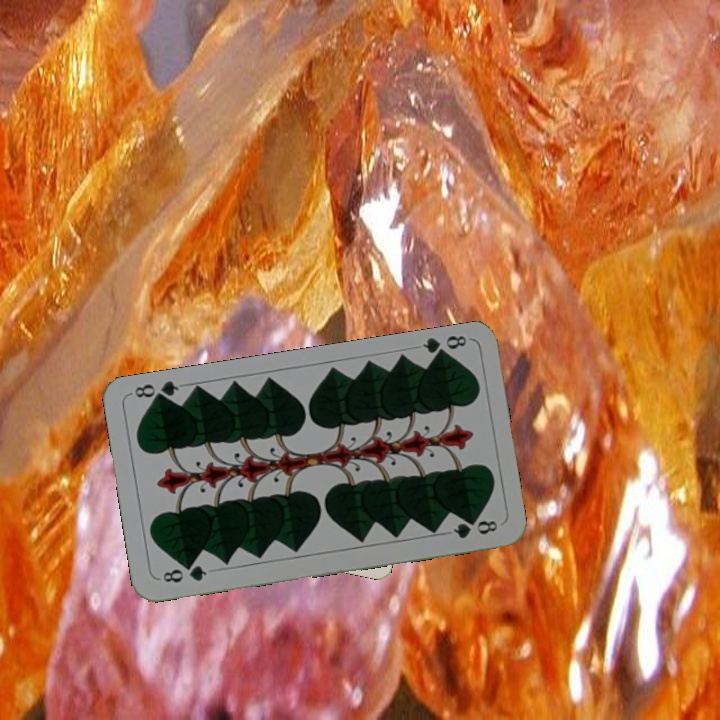G8: (418, 331, 469, 362), (158, 560, 210, 586)
